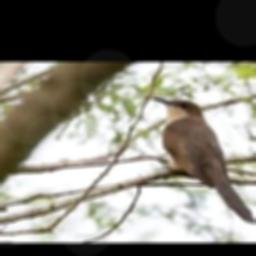Cuckoo: (153, 98, 256, 223)
